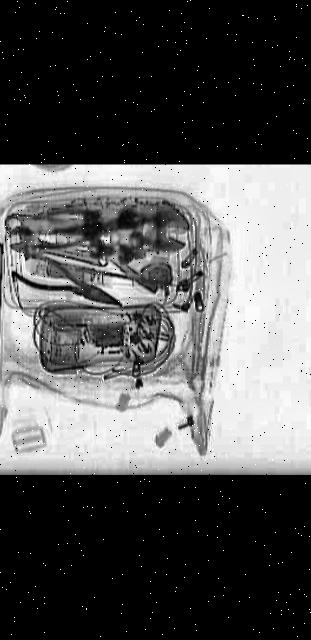Pliers: (6, 254, 138, 318)
Wrench: (3, 202, 192, 255)
